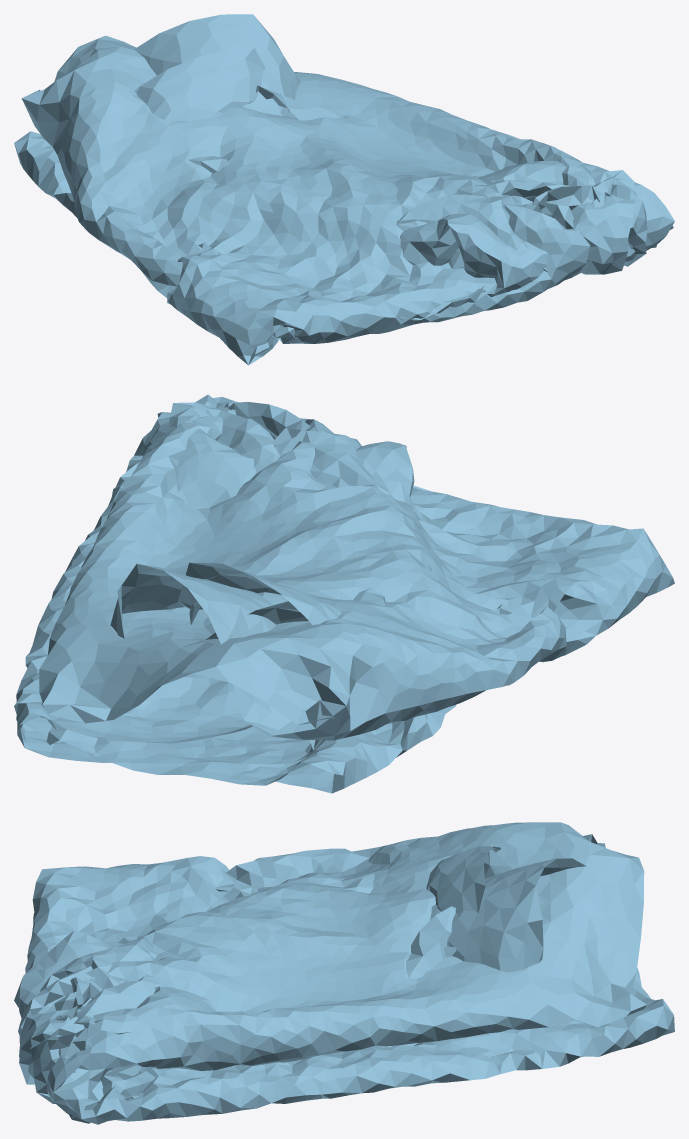
Rendered from frame_20.glb.
The picture shows the model from 3 angles, top to bottom: view 1: azimuth 30°, elevation 25°; view 2: azimuth 150°, elevation 25°; view 3: azimuth 270°, elevation 25°; orthographic projection. The views are drawn at different scales.
Visible parts, largest first — view 1: frame_20.obj; view 2: frame_20.obj; view 3: frame_20.obj.
Boxes of the visible parts, bbox=[...] form: frame_20.obj: bbox=[14, 14, 674, 365]; frame_20.obj: bbox=[14, 394, 674, 793]; frame_20.obj: bbox=[14, 822, 674, 1124].
Bounding box in the file's own units: 0.8805 × 0.2556 × 1.02.
